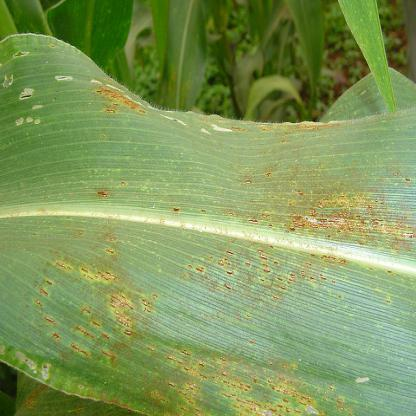corn rust leaf: (7, 28, 415, 415)
